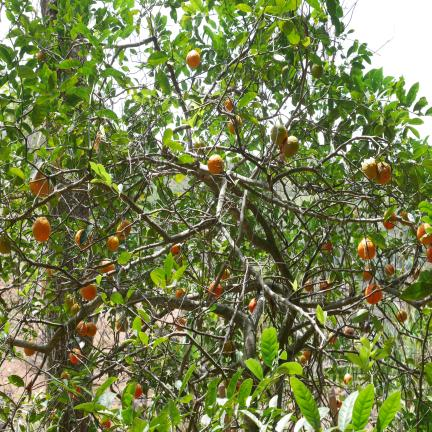oranges: (30, 172, 52, 197), (33, 217, 50, 242), (271, 124, 287, 149), (282, 136, 299, 158), (376, 162, 392, 185), (207, 154, 224, 175), (358, 238, 375, 259), (362, 158, 378, 180), (366, 283, 382, 304), (417, 223, 431, 245), (117, 220, 131, 240), (75, 230, 89, 249), (81, 284, 97, 300), (187, 50, 200, 68), (229, 116, 242, 134), (107, 235, 119, 252), (209, 282, 221, 298), (0, 235, 10, 254), (100, 261, 114, 273), (116, 319, 128, 332), (70, 349, 81, 363), (363, 266, 373, 281), (224, 341, 235, 354), (321, 241, 332, 254), (65, 294, 75, 308), (87, 322, 96, 337), (77, 322, 87, 335), (224, 98, 233, 112), (175, 288, 186, 299), (249, 298, 257, 313), (399, 211, 409, 222), (398, 310, 407, 322), (385, 264, 394, 276), (71, 304, 80, 316), (328, 334, 338, 344), (320, 280, 330, 290), (221, 269, 230, 280), (135, 384, 142, 398), (383, 221, 395, 229), (413, 267, 421, 279), (344, 374, 352, 385), (24, 348, 35, 356), (304, 281, 312, 292), (102, 419, 111, 428), (171, 245, 179, 255), (345, 327, 354, 335), (177, 317, 185, 326), (61, 372, 71, 379), (427, 245, 431, 262), (299, 355, 306, 364), (70, 392, 77, 399), (337, 399, 342, 408), (304, 351, 309, 360)
